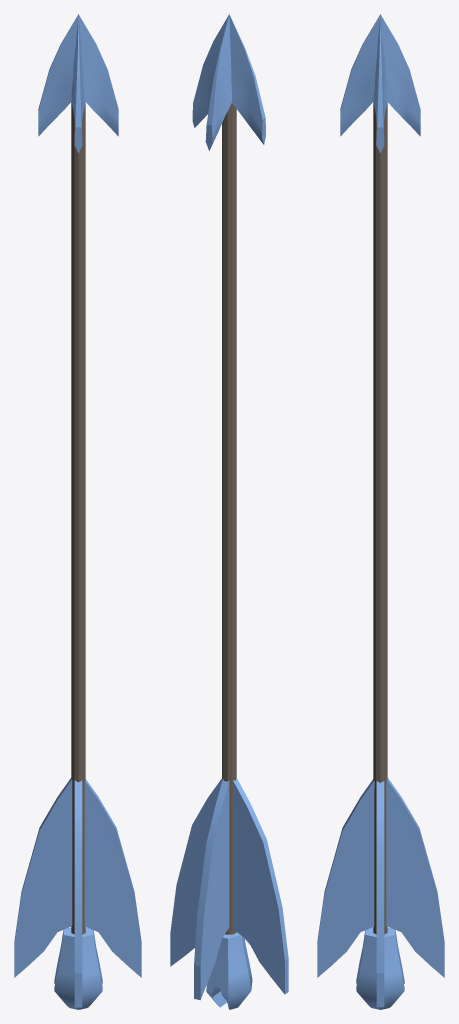
The model's file is Freezing.fbx.
The picture shows the model from 3 angles, left to right: view 1: azimuth 90°, elevation 25°; view 2: azimuth 150°, elevation 25°; view 3: azimuth 270°, elevation 25°; orthographic projection.
Visible parts, largest first — view 1: pCylinder1, pCube7, pCube5, pasted__pCube2, pCylinder3, pCube4, pCube2; view 2: pCylinder1, pCube4, pCube7, pCube6, pCube2, pCylinder3, pasted__pCube2; view 3: pCylinder1, pCube7, pCube5, pasted__pCube2, pCylinder3, pCube6, pCube2.
Boxes of the visible parts, x1,y1,x2,y2 form: pCylinder1: (71, 102, 85, 934); pCube7: (14, 778, 72, 977); pCube5: (84, 779, 141, 977); pasted__pCube2: (38, 14, 118, 136); pCylinder3: (54, 927, 102, 1009); pCube4: (74, 780, 82, 1007); pCube2: (71, 15, 85, 153); pCylinder1: (222, 103, 236, 934); pCube4: (233, 778, 288, 994); pCube7: (194, 779, 229, 1000); pCube6: (170, 778, 221, 966); pCube2: (192, 14, 265, 144); pCylinder3: (206, 932, 252, 1009); pasted__pCube2: (205, 15, 231, 150); pCylinder1: (373, 102, 387, 934); pCube7: (386, 778, 444, 977); pCube5: (317, 779, 374, 977); pasted__pCube2: (340, 14, 420, 136); pCylinder3: (356, 927, 404, 1009); pCube6: (376, 781, 384, 1007); pCube2: (373, 15, 387, 153).
Size of the model in its own units: 0.8525 by 7.06 by 0.8196.
